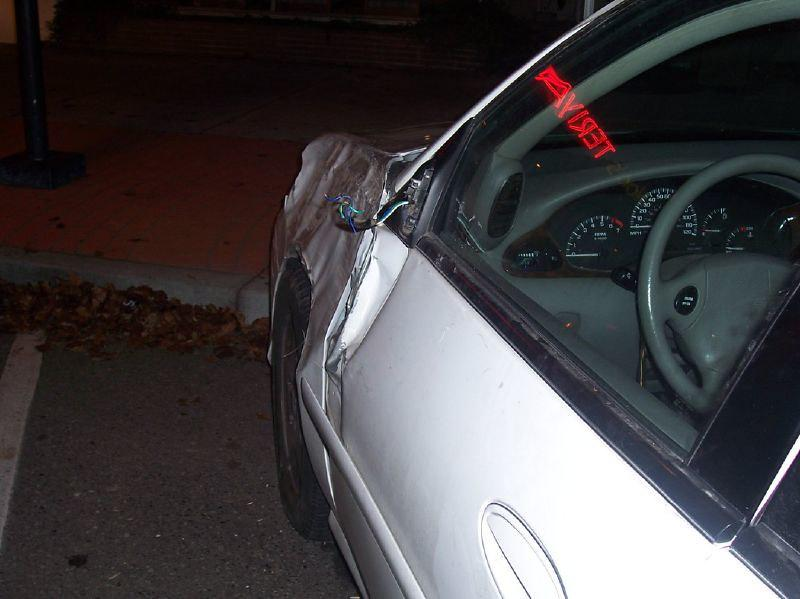fender-dent: (271, 137, 412, 378)
